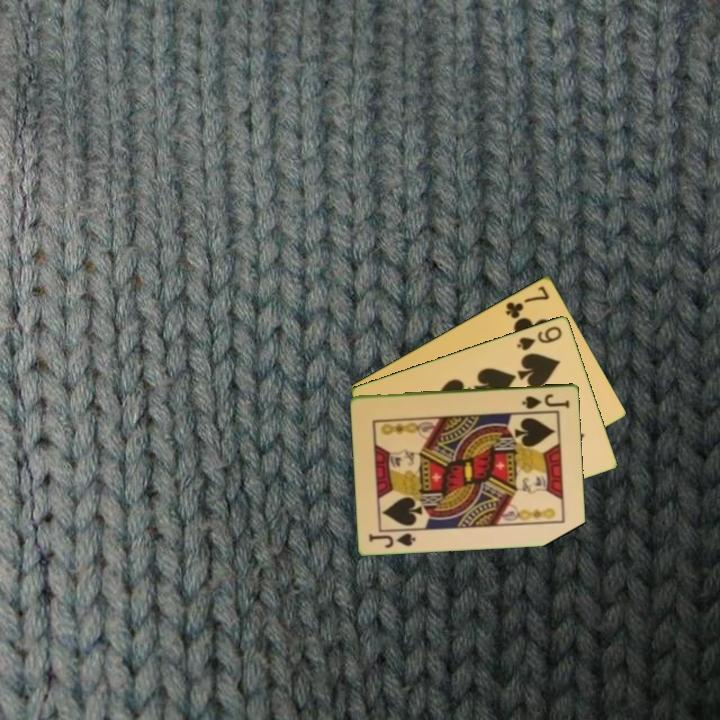7c: (502, 282, 552, 321)
9s: (513, 322, 565, 353)
Js: (519, 390, 572, 411), (366, 529, 419, 550)
